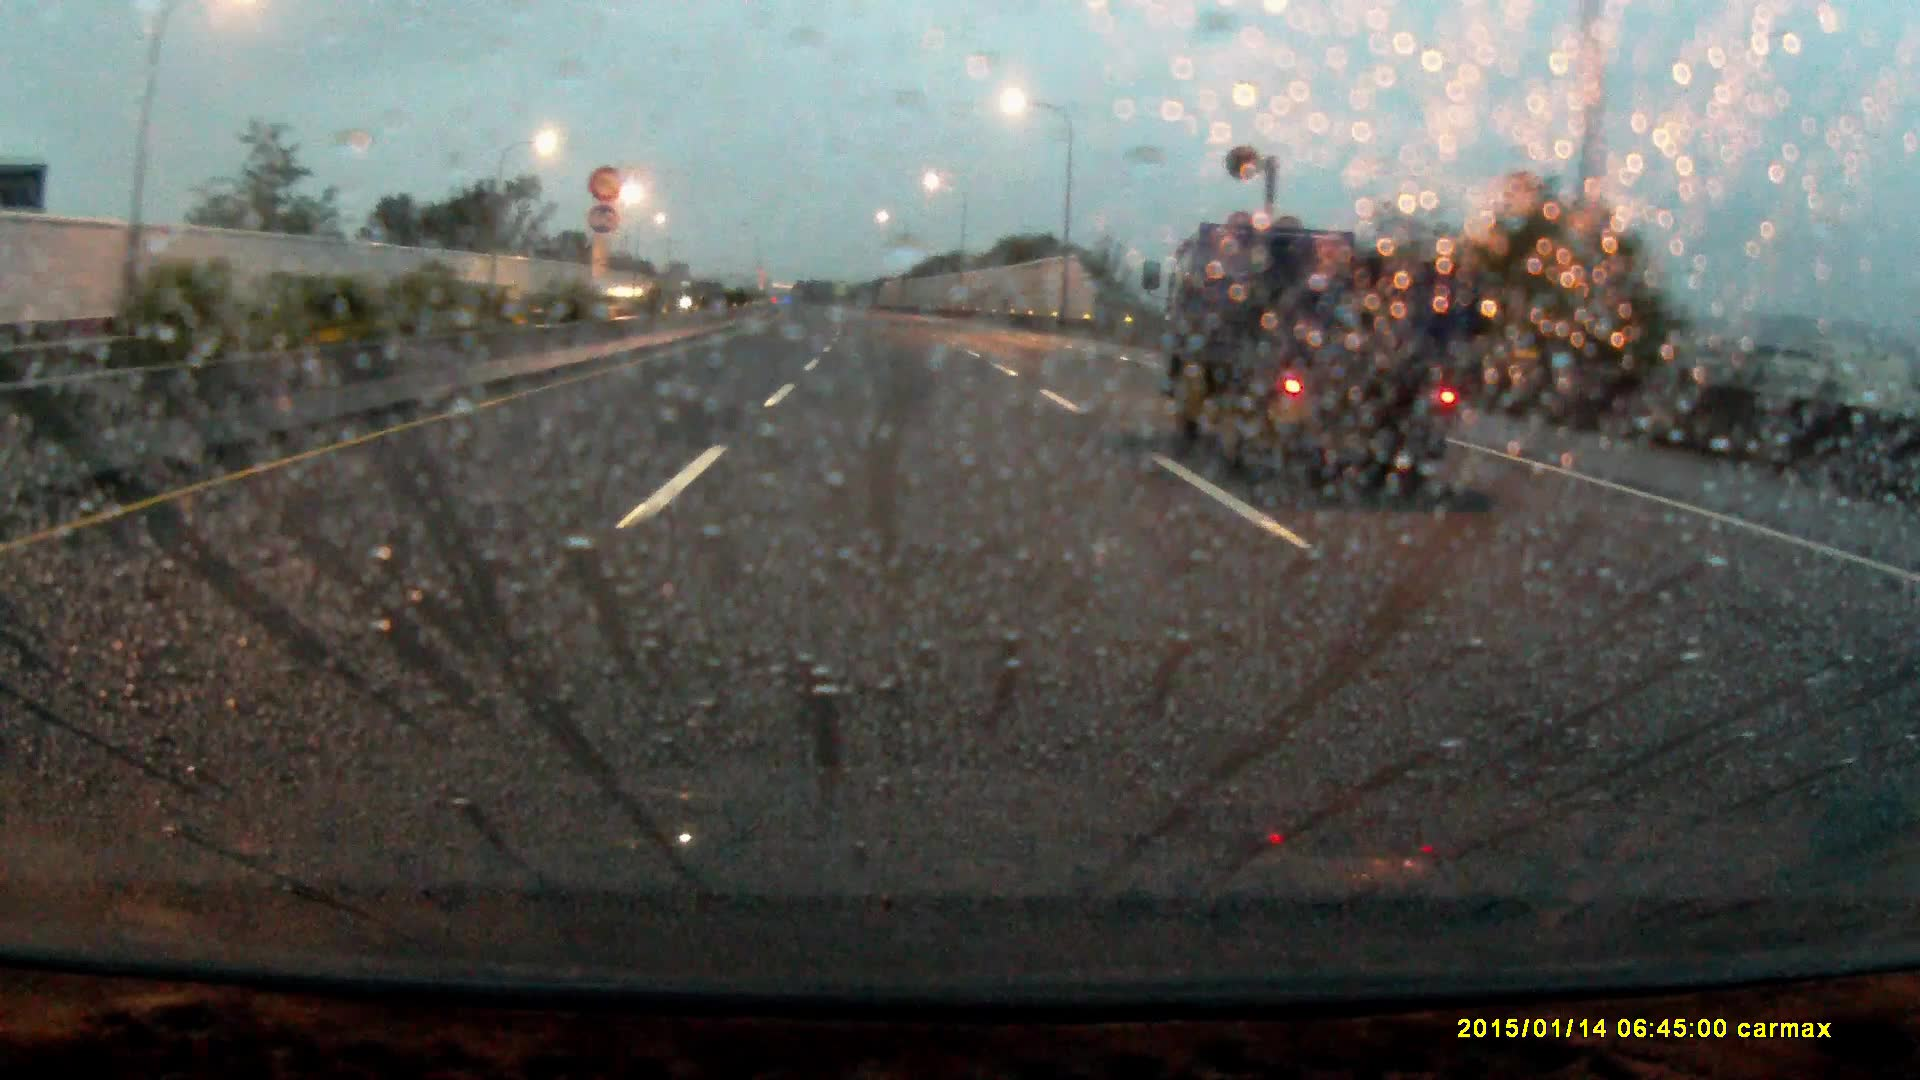vehicle: (1191, 207, 1494, 512)
